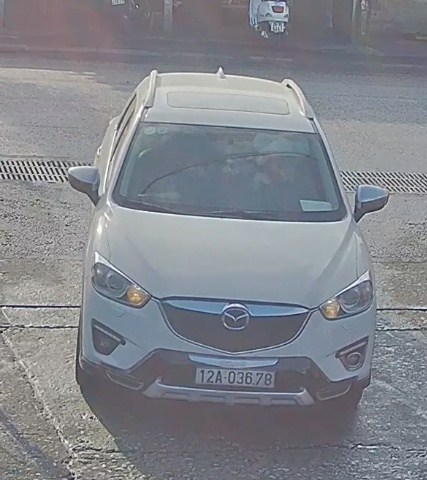vehicle plate: (187, 362, 282, 395)
